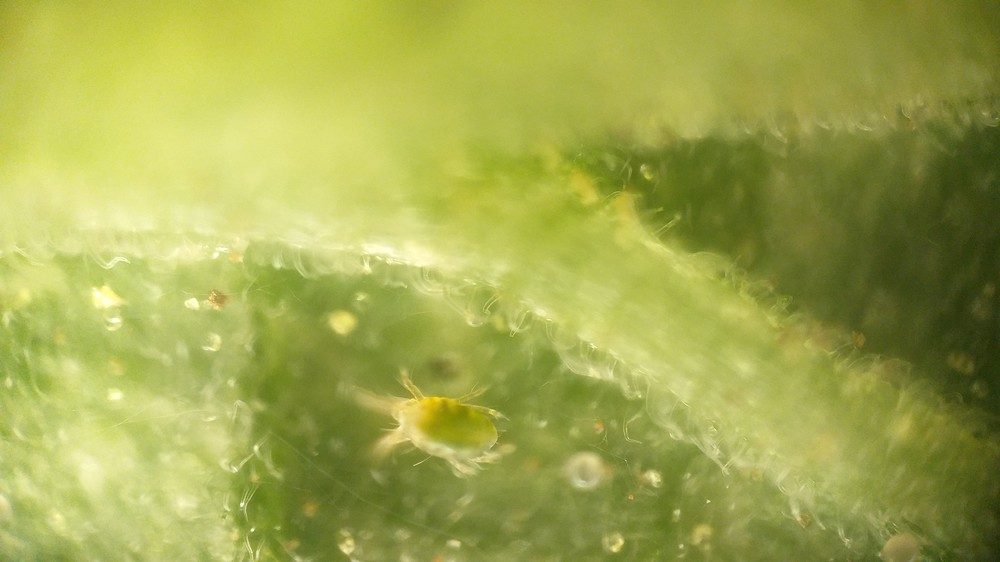Aracnido Rojo: (335, 355, 542, 507)
